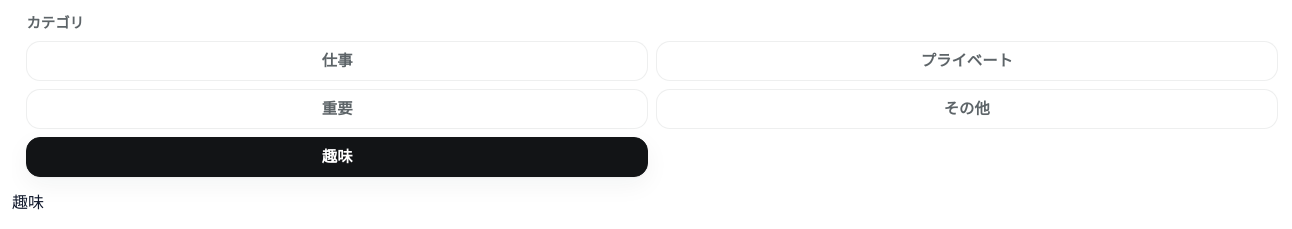
Scenario: メモのカテゴリ › 一覧に無い前のカテゴリは、選んだ状態で見せ、ほかを押した後も選び直せる
Step 1. Click the button "重要" → x=337, y=109, box [26,89,648,129]
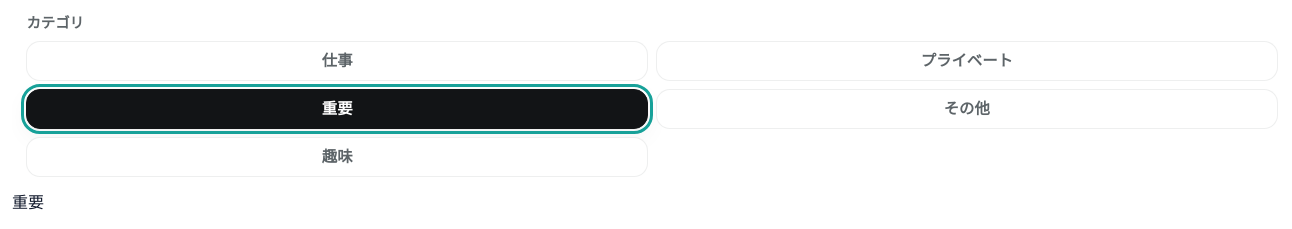
Step 2. Click the button "趣味" → x=337, y=157, box [26,137,648,177]
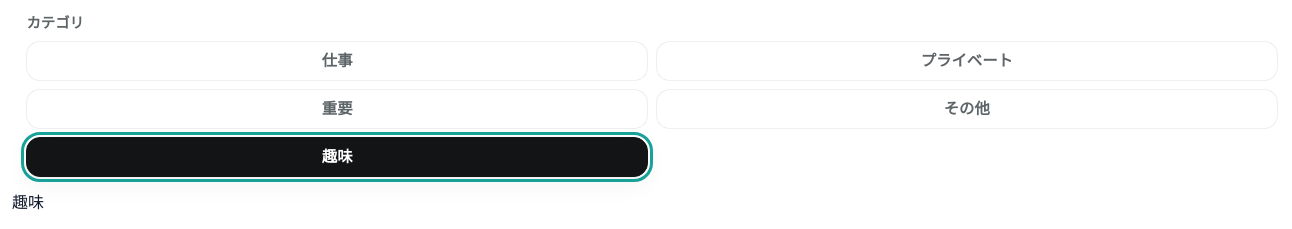
Now the text named "今の値" reads "趣味", box [12,192,44,212]
